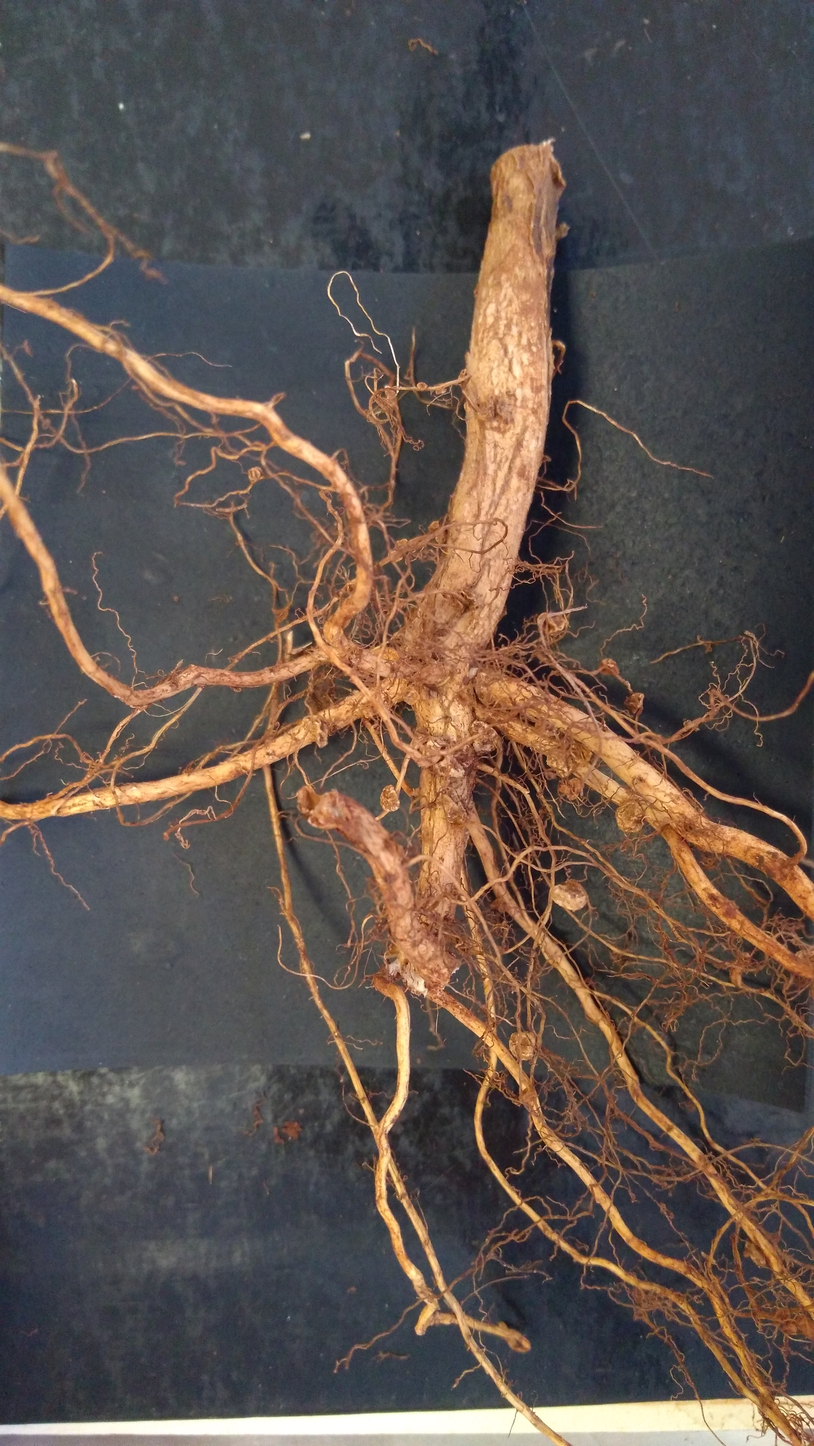nodule: (547, 874, 592, 914), (408, 727, 447, 769), (436, 784, 470, 825), (613, 796, 646, 835), (466, 717, 499, 755), (507, 1028, 539, 1063), (302, 713, 332, 750), (430, 750, 467, 780), (544, 751, 574, 780), (376, 782, 402, 815), (744, 1242, 770, 1269), (569, 738, 593, 765), (538, 611, 566, 634), (624, 690, 647, 717), (428, 520, 448, 547), (598, 656, 621, 678), (565, 775, 583, 802), (401, 684, 420, 704), (387, 548, 404, 563), (248, 466, 263, 482), (393, 538, 409, 552), (415, 381, 428, 391)
